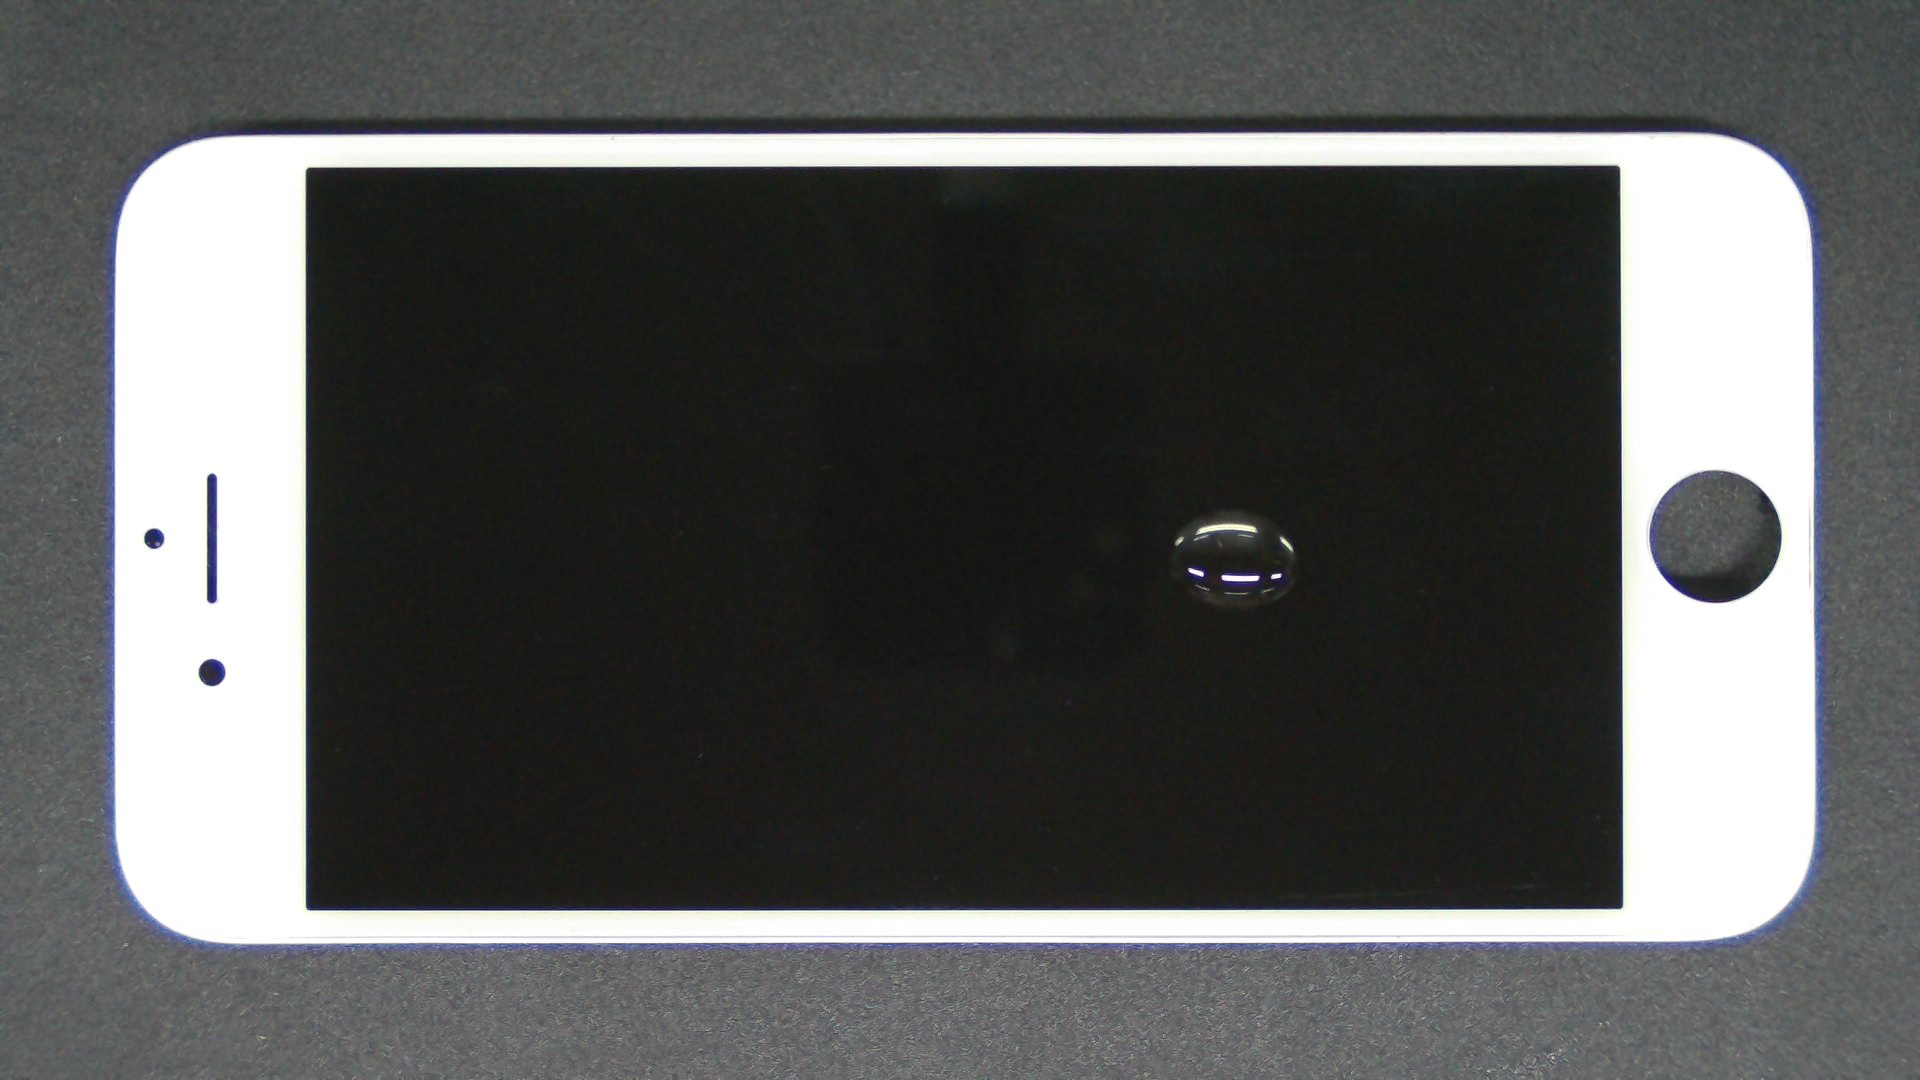oil: (621, 255, 1862, 766)
